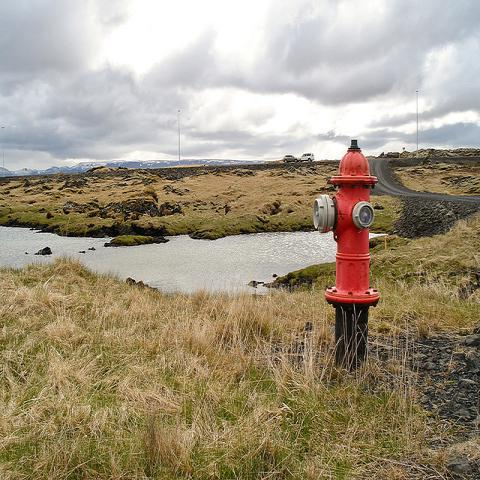car: (299, 152, 314, 163), (282, 154, 300, 163)
